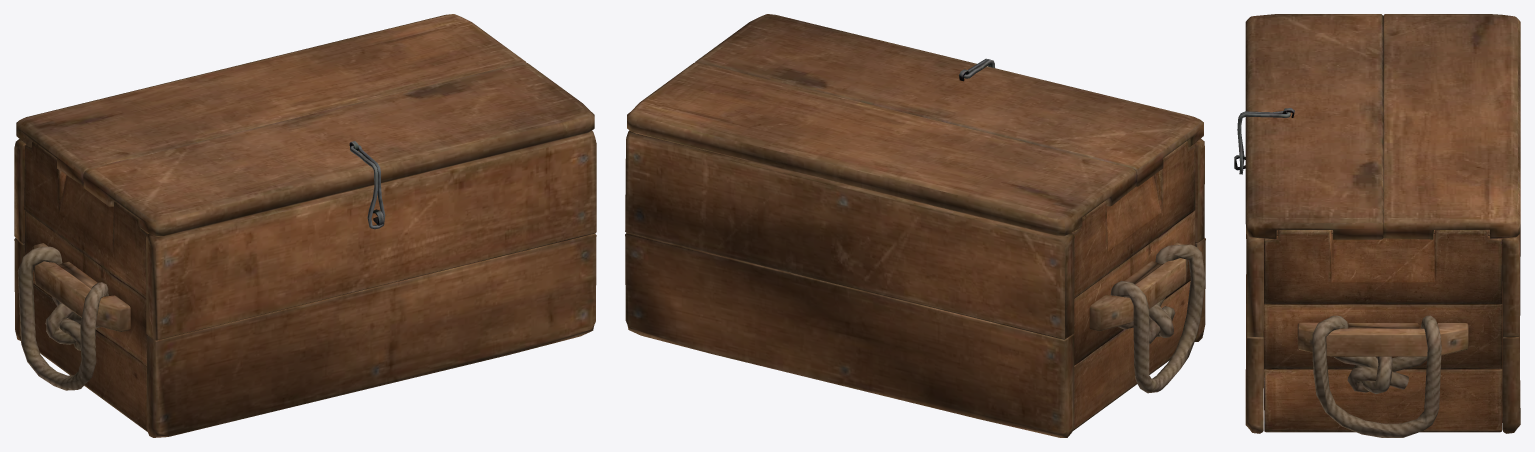
File: wooden_crate_01.lite.glb
3 renders of one model, left to right at view 1: azimuth 30°, elevation 25°; view 2: azimuth 150°, elevation 25°; view 3: azimuth 270°, elevation 25°, orthographic. The views are drawn at different scales.
Parts seen in each view (by area): view 1: wooden_crate_01_lid; view 2: wooden_crate_01_lid; view 3: wooden_crate_01_lid.
Boxes of the visible parts, x1,y1,x2,y2 form: wooden_crate_01_lid: (14, 14, 596, 437); wooden_crate_01_lid: (625, 14, 1205, 437); wooden_crate_01_lid: (1234, 14, 1520, 437).
Size of the model in its own units: 0.8245 by 0.3495 by 0.407.
1 material, 1 textured.
